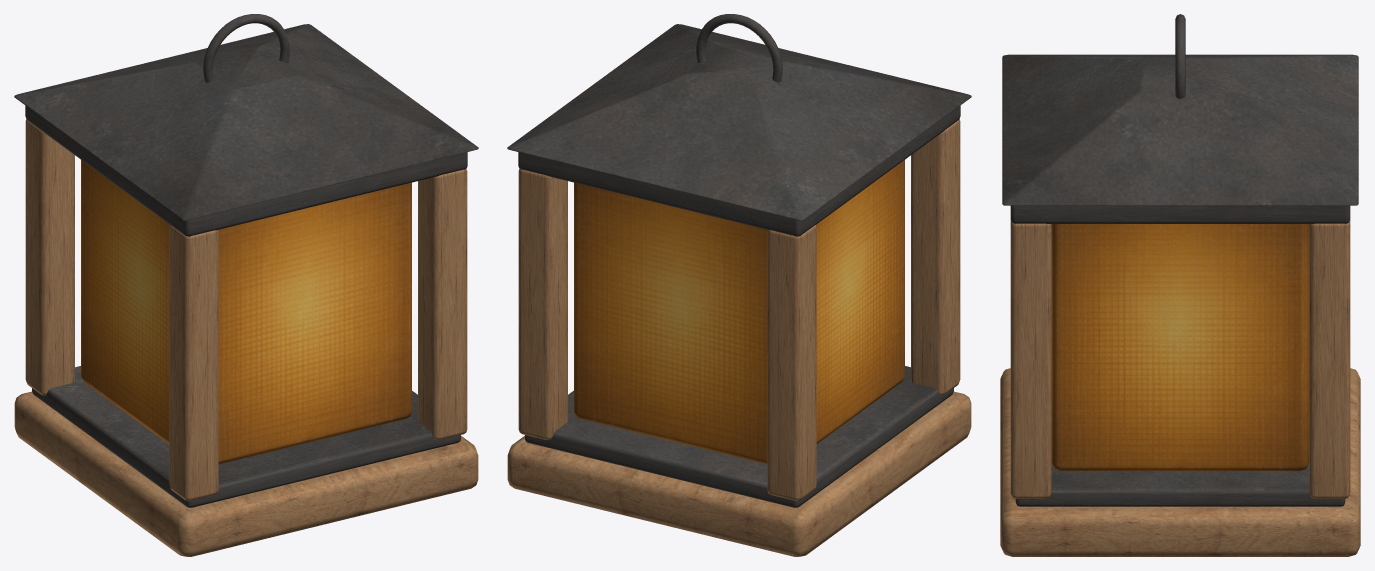
The model's file is SM_FacilityRooms_AtticLamp.fbx.
3 renders of one model, left to right at view 1: azimuth 30°, elevation 25°; view 2: azimuth 150°, elevation 25°; view 3: azimuth 270°, elevation 25°, orthographic. The views are drawn at different scales.
Visible parts, largest first — view 1: SM_FacilityRooms_AtticLamp; view 2: SM_FacilityRooms_AtticLamp; view 3: SM_FacilityRooms_AtticLamp.
Boxes of the visible parts, x1,y1,x2,y2 form: SM_FacilityRooms_AtticLamp: [14, 14, 478, 556]; SM_FacilityRooms_AtticLamp: [507, 14, 971, 556]; SM_FacilityRooms_AtticLamp: [1000, 14, 1360, 556].
Size of what is drawn, in the model's own units: 35 by 35 by 50.
